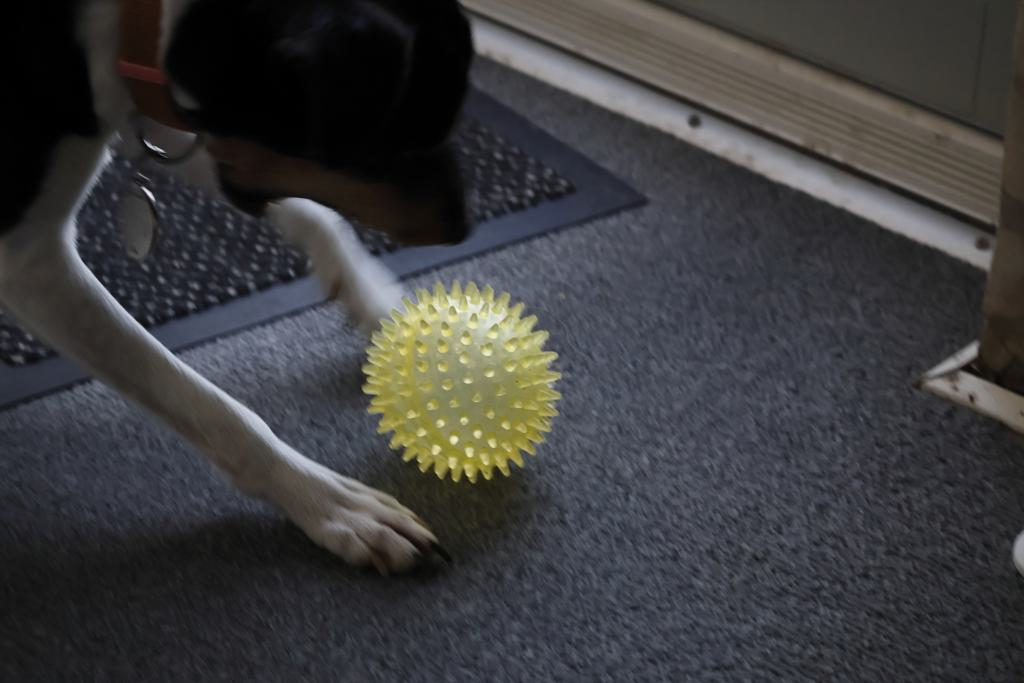Dog: (0, 0, 489, 592)
